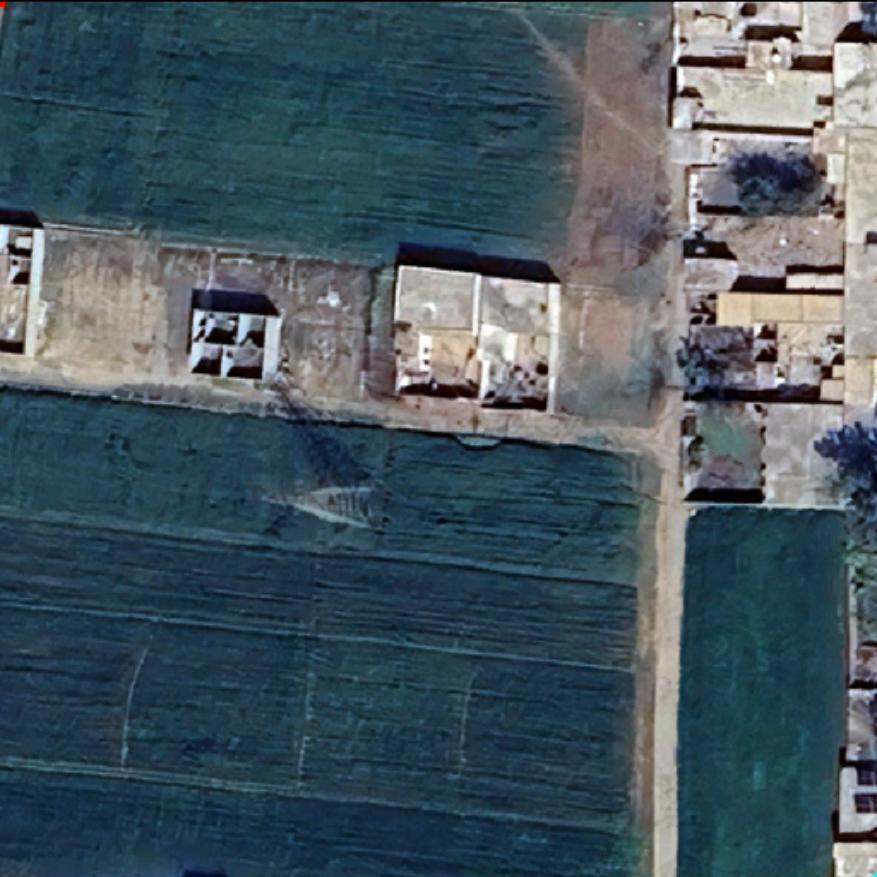Solarpanel: (853, 758, 877, 788), (851, 790, 877, 816)
